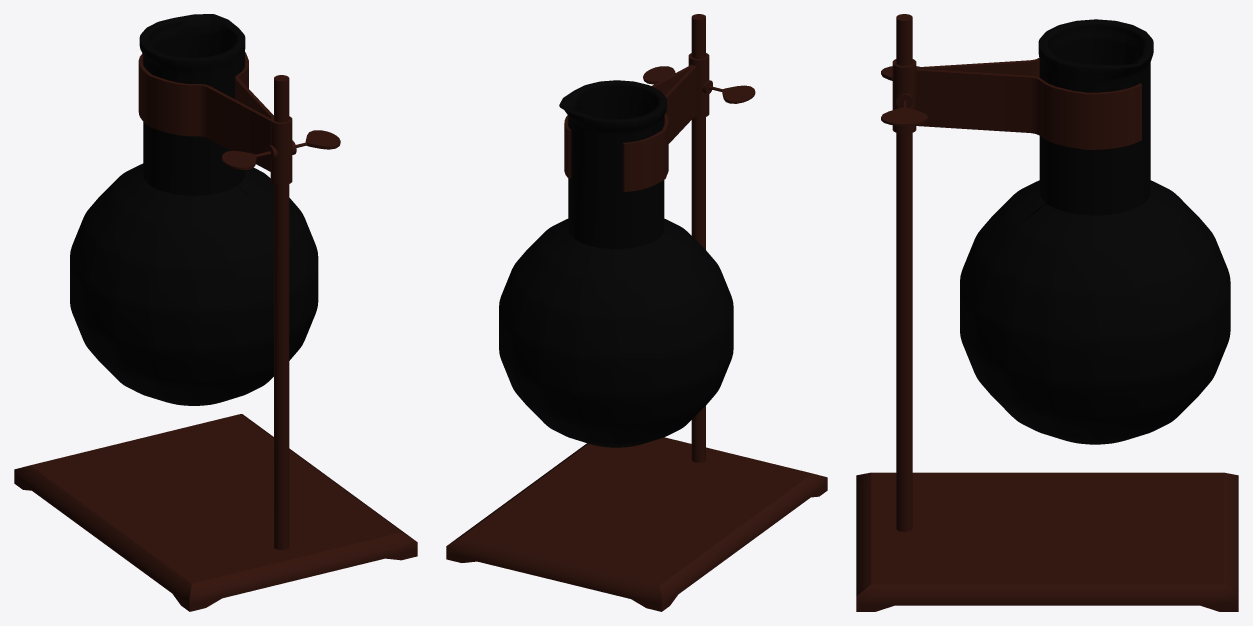
The model's file is EH BeakerStand+Beaker.fbx.
3 views of the same model, side by side, from view 1: azimuth 30°, elevation 25°; view 2: azimuth 150°, elevation 25°; view 3: azimuth 270°, elevation 25° (orthographic). The views are drawn at different scales.
Visible parts, largest first — view 1: RoundBeaker002, Box001, Line002, Cylinder001, Cylinder002, Line001, Cylinder005, Cylinder006; view 2: RoundBeaker002, Box001, Line002, Cylinder001, Line001, Cylinder002; view 3: RoundBeaker002, Box001, Line001, Cylinder001, Line002, Cylinder002, Cylinder006.
Part boxes in pixels (<box>): RoundBeaker002: <box>70,14,318,405</box>; Box001: <box>14,414,417,611</box>; Line002: <box>138,53,270,171</box>; Cylinder001: <box>274,75,289,549</box>; Cylinder002: <box>270,116,292,185</box>; Line001: <box>235,52,273,118</box>; Cylinder005: <box>221,150,256,169</box>; Cylinder006: <box>305,130,340,149</box>; RoundBeaker002: <box>499,80,733,447</box>; Box001: <box>446,437,827,611</box>; Line002: <box>622,65,696,191</box>; Cylinder001: <box>691,14,705,462</box>; Line001: <box>564,65,693,178</box>; Cylinder002: <box>688,53,709,118</box>; RoundBeaker002: <box>960,19,1230,444</box>; Box001: <box>856,472,1238,611</box>; Line001: <box>916,69,1141,149</box>; Cylinder001: <box>896,14,912,531</box>; Line002: <box>916,58,1039,77</box>; Cylinder002: <box>892,59,916,134</box>; Cylinder006: <box>881,107,927,125</box>.
Bounding box in the file's own units: 24.44 × 50.17 × 32.59.
